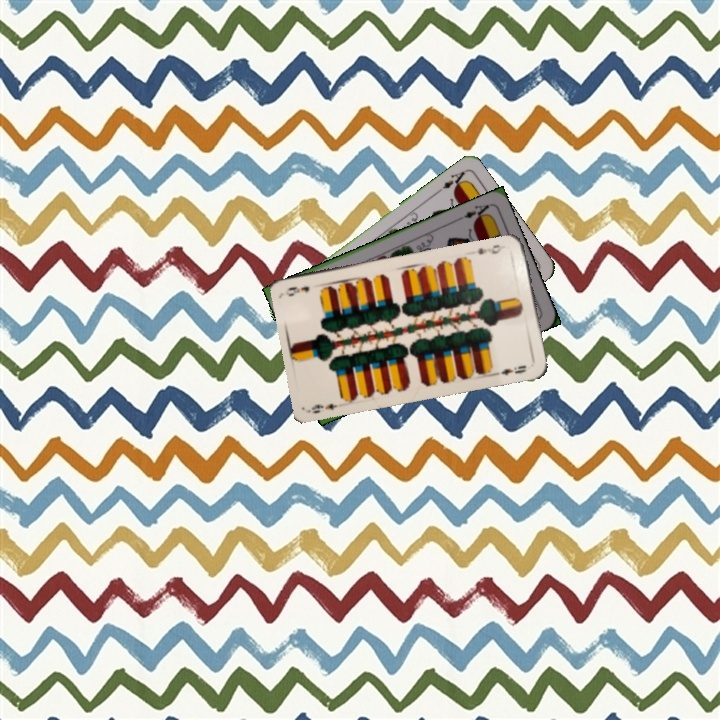E9: (473, 240, 508, 257), (307, 399, 340, 416)
EA: (433, 167, 469, 196), (454, 200, 493, 224)
